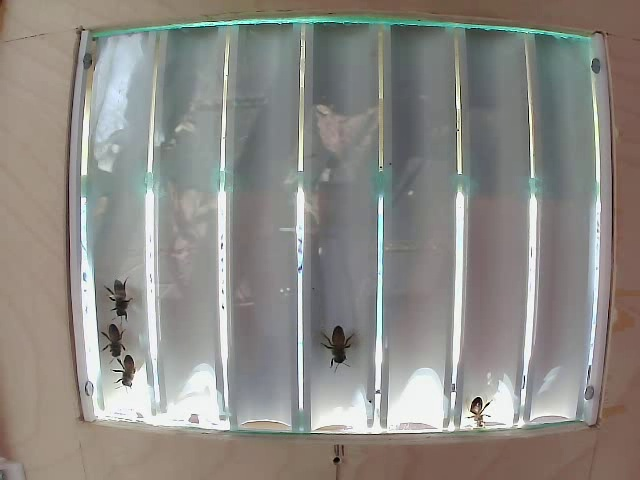bee: (95, 316, 135, 360), (317, 313, 356, 357), (105, 279, 146, 318), (114, 359, 153, 388)
